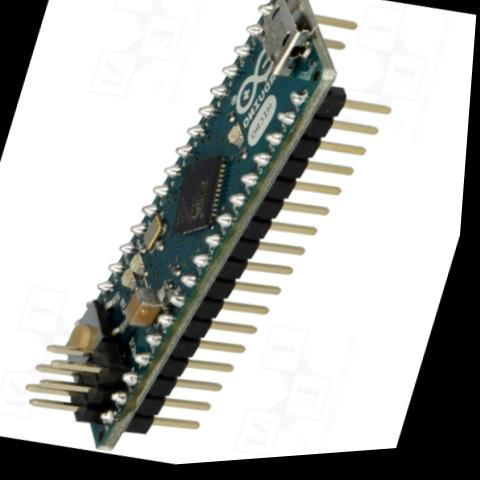Arduino-Micro: (10, 0, 429, 478)
